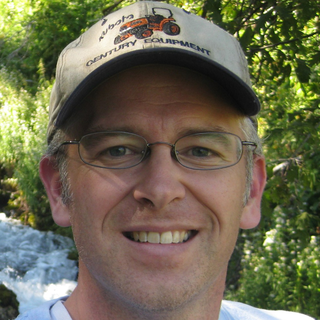eye: (85, 141, 143, 163), (179, 142, 225, 164)
